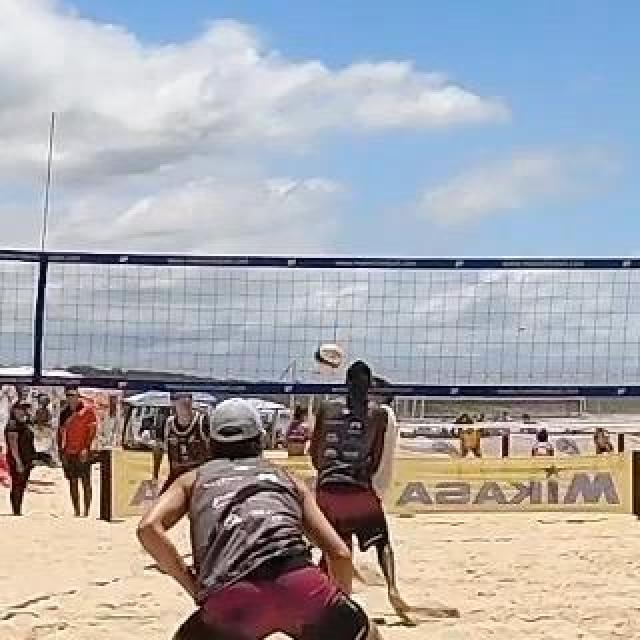volleyball: (313, 344, 341, 372)
